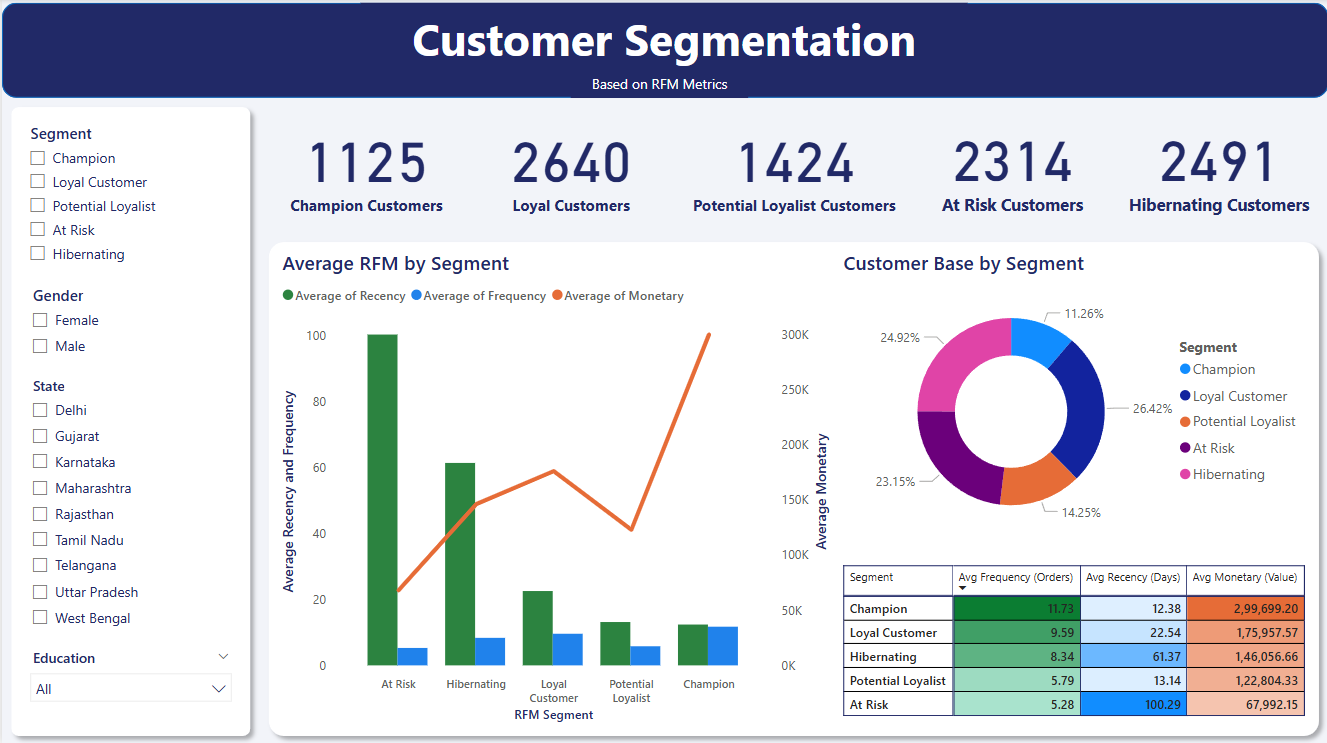

The dashboard page shown, as its layout file describes it:
{"tool":"powerbi","page":{"name":"Customer Segmentation","canvas":[1280,720],"ordinal":2},"visuals":[{"type":"shape","box":[248.5,225.6,1031.5,494.6],"z":0},{"type":"shape","box":[0,95.3,248.5,624.9],"z":1000},{"type":"shape","box":[0,3.7,1280.3,91.7],"z":2000},{"type":"textbox","box":[346.1,3.7,585.7,67.3],"z":3000},{"type":"textbox","box":[548.9,67.6,171.3,27.7],"z":4000},{"type":"card","fields":{"Values":["Count(RFM.customer_id)"]},"box":[257,105,190,111],"z":5000},{"type":"card","fields":{"Values":["Count(RFM.customer_id)"]},"box":[454.8,105,189.4,111],"z":6000},{"type":"card","fields":{"Values":["Count(RFM.customer_id)"]},"box":[659.9,105,209.9,111],"z":7000},{"type":"card","fields":{"Values":["Count(RFM.customer_id)"]},"box":[880.7,105,189.4,111],"z":8000},{"type":"card","fields":{"Values":["Count(RFM.customer_id)"]},"box":[1079.8,105,190,111],"z":9000},{"type":"donutChart","title":"Customer Base by Segment","fields":{"Y":["Count(RFM.customer_id)"],"Category":["Segments.Segment"]},"box":[807.1,241.3,456,289.5],"z":10000},{"type":"lineClusteredColumnComboChart","title":"Average RFM by Segment","fields":{"Y":["Avg(RFM.Recency)","Avg(RFM.Frequency)"],"Y2":["Avg(RFM.Monetary)"],"Category":["Segments.Segment"]},"box":[265.4,241.3,541.7,462.1],"z":11000},{"type":"slicer","fields":{"Values":["Segments.Segment"]},"box":[14.5,114.6,217.2,155.6],"z":12000},{"type":"slicer","fields":{"Values":["customers.gender"]},"box":[16.9,270.2,214.7,89.3],"z":13000},{"type":"slicer","fields":{"Values":["customers.state"]},"box":[16.9,359.5,214.7,263],"z":14000},{"type":"slicer","fields":{"Values":["customers.education"]},"box":[16.9,621.3,214.7,82],"z":15000},{"type":"pivotTable","fields":{"Values":["Avg(RFM.Frequency)","Avg(RFM.Recency)","Avg(RFM.Monetary)"],"Rows":["Segments.Segment"]},"box":[807.1,541.7,456,160.5],"z":16000}]}

Visuals, with their boxes in screenshot pixels (x1, y1, x2, y2), scaled from the page's 1280x720 canvas onto the 1327x743 screenshot:
shape: box=[258, 233, 1326, 742]
shape: box=[0, 98, 258, 742]
shape: box=[0, 4, 1326, 98]
textbox: box=[359, 4, 966, 73]
textbox: box=[569, 70, 747, 98]
card - Count(RFM.customer_id): box=[266, 108, 463, 223]
card - Count(RFM.customer_id): box=[471, 108, 668, 223]
card - Count(RFM.customer_id): box=[684, 108, 902, 223]
card - Count(RFM.customer_id): box=[913, 108, 1109, 223]
card - Count(RFM.customer_id): box=[1119, 108, 1316, 223]
"Customer Base by Segment" donutChart: box=[837, 249, 1309, 548]
"Average RFM by Segment" lineClusteredColumnComboChart: box=[275, 249, 837, 726]
slicer - Segments.Segment: box=[15, 118, 240, 279]
slicer - customers.gender: box=[18, 279, 240, 371]
slicer - customers.state: box=[18, 371, 240, 642]
slicer - customers.education: box=[18, 641, 240, 726]
pivotTable - Avg(RFM.Frequency) x Avg(RFM.Recency): box=[837, 559, 1309, 725]
